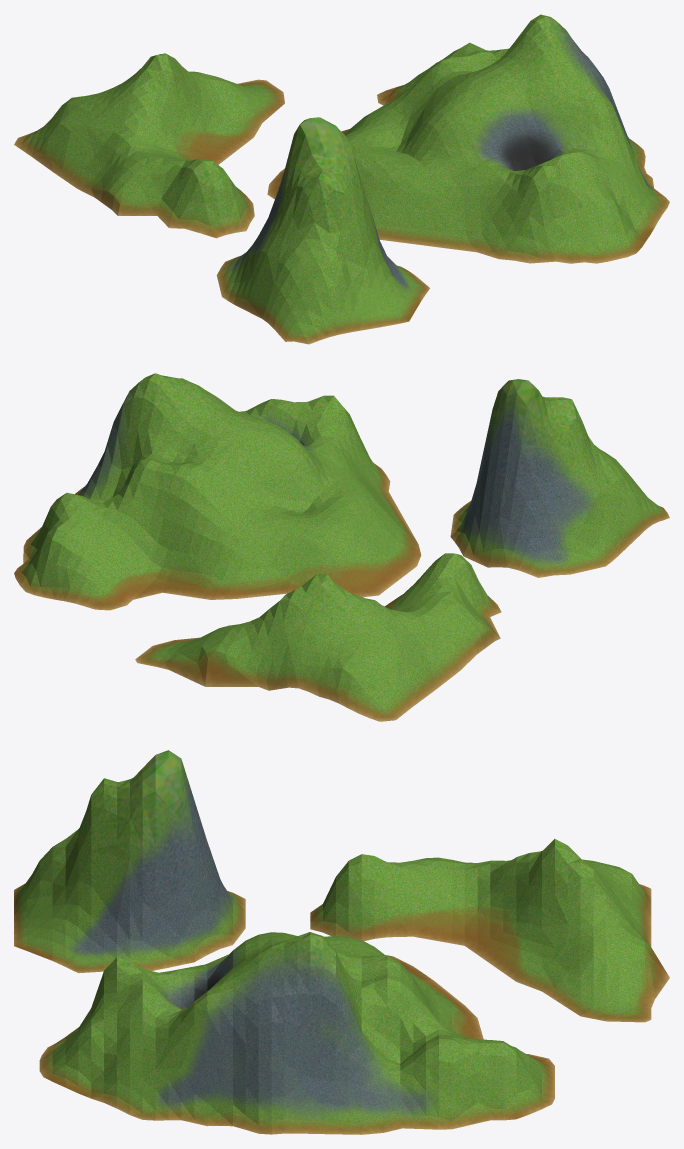
File: islands.fbx
The picture shows the model from 3 angles, top to bottom: view 1: azimuth 30°, elevation 25°; view 2: azimuth 150°, elevation 25°; view 3: azimuth 270°, elevation 25°; orthographic projection. The views are drawn at different scales.
Visible parts, largest first — view 1: Land; view 2: Land; view 3: Land.
Boxes of the visible parts, x1,y1,x2,y2 form: Land: [14, 14, 669, 344]; Land: [14, 373, 669, 721]; Land: [14, 750, 669, 1134].
Size of what is drawn, in the model's own units: 187879 by 61933 by 205818.
